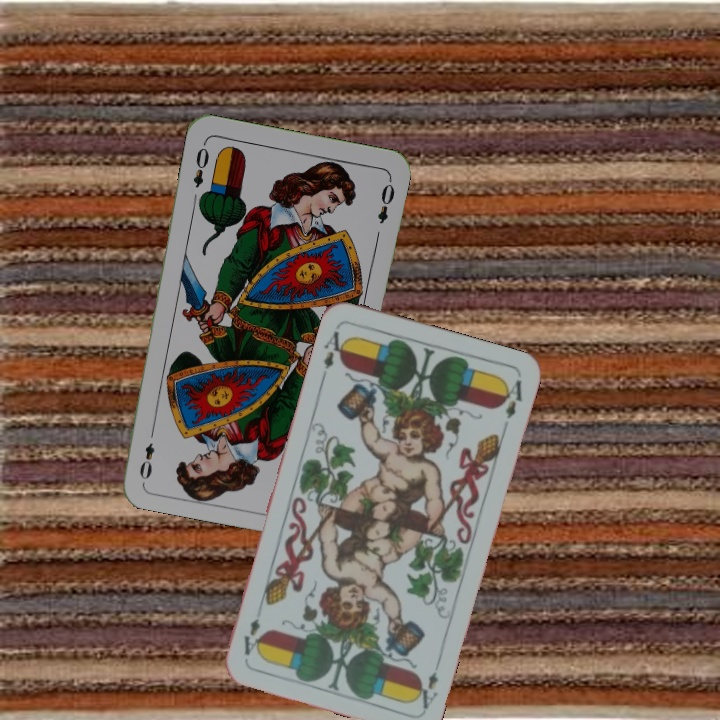EA: (411, 655, 444, 712), (319, 327, 351, 372)
EO: (188, 138, 212, 190)
